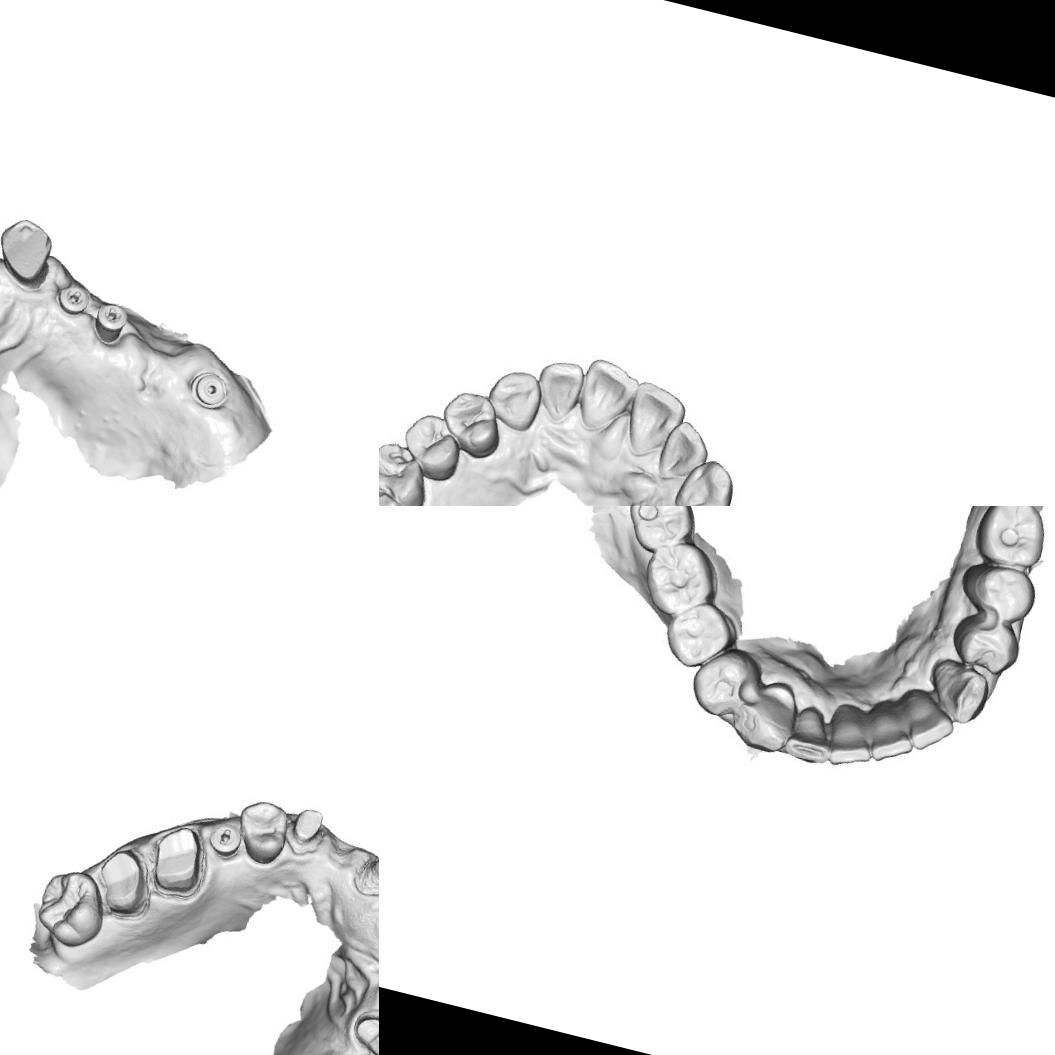canine: (730, 674, 802, 756), (480, 361, 546, 437), (0, 212, 59, 294), (927, 658, 993, 723), (669, 450, 742, 506)
crown: (144, 818, 212, 900), (88, 843, 156, 920), (286, 799, 330, 852), (345, 1007, 379, 1055), (365, 841, 379, 894)
implant: (181, 364, 234, 414)
implant_minus: (52, 278, 94, 318), (204, 818, 244, 860)
implant_plus: (88, 298, 131, 350)
incisor: (568, 352, 642, 440), (618, 376, 691, 462), (650, 414, 714, 489), (528, 354, 586, 426), (825, 702, 882, 768), (781, 700, 836, 768), (900, 692, 960, 754), (867, 703, 919, 763)
molar: (28, 862, 114, 954), (639, 536, 717, 619), (964, 506, 1055, 574), (617, 506, 708, 566), (379, 430, 437, 506)
premolar: (432, 380, 513, 463), (953, 552, 1041, 628), (393, 406, 472, 487), (946, 606, 1025, 682), (227, 788, 297, 870), (667, 600, 731, 668), (688, 651, 752, 716)
